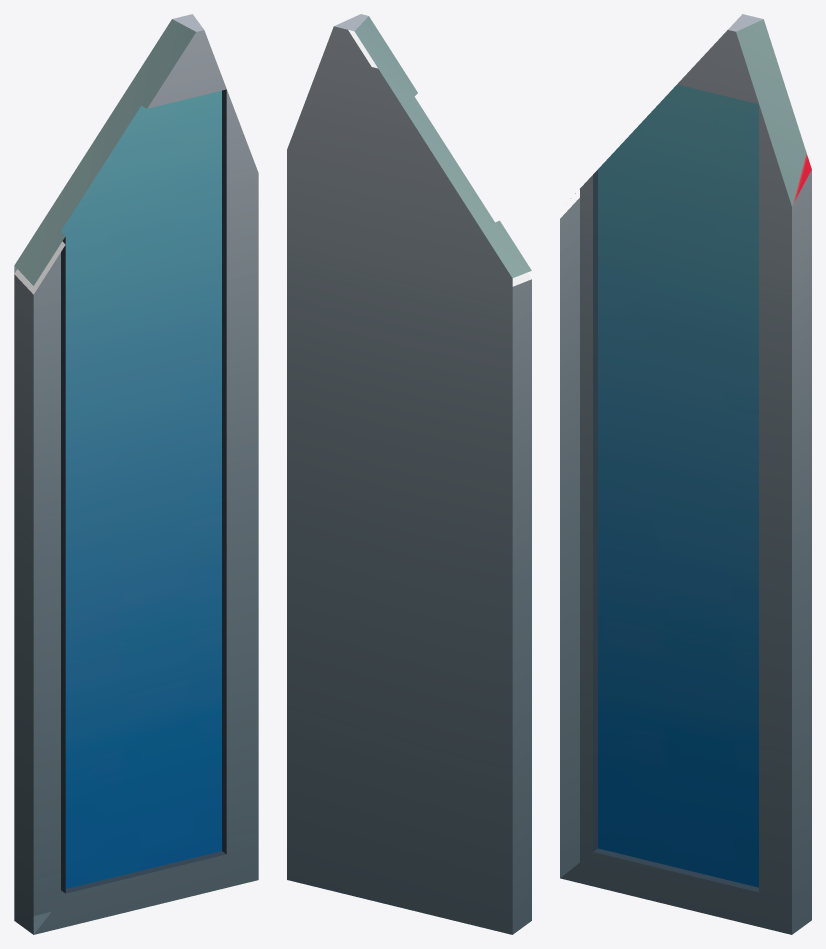
File: SpacePart_Cube_024.fbx
3 views of the same model, side by side, from view 1: azimuth 30°, elevation 25°; view 2: azimuth 150°, elevation 25°; view 3: azimuth 330°, elevation 25° (orthographic). The views are drawn at different scales.
Parts seen in each view (by area): view 1: Cube.024; view 2: Cube.024; view 3: Cube.024.
Part boxes in pixels (left/top/right/bottom): Cube.024: left=14, top=14, right=258, bottom=934; Cube.024: left=287, top=14, right=531, bottom=934; Cube.024: left=560, top=14, right=811, bottom=934.
Bounding box in the file's own units: 1523 × 5582 × 227.
